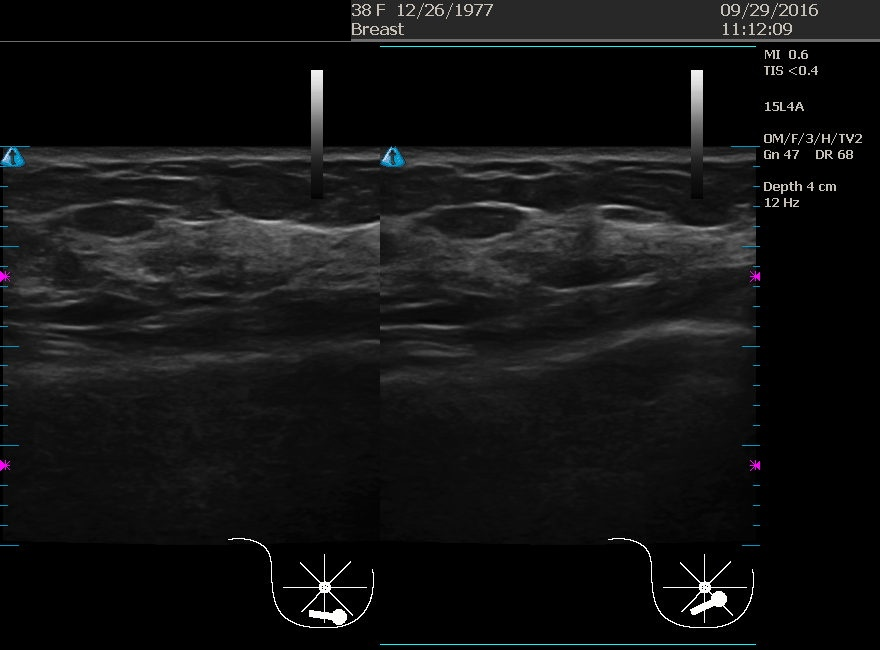BIRADS_3: (22, 183, 222, 383), (389, 175, 589, 375)
